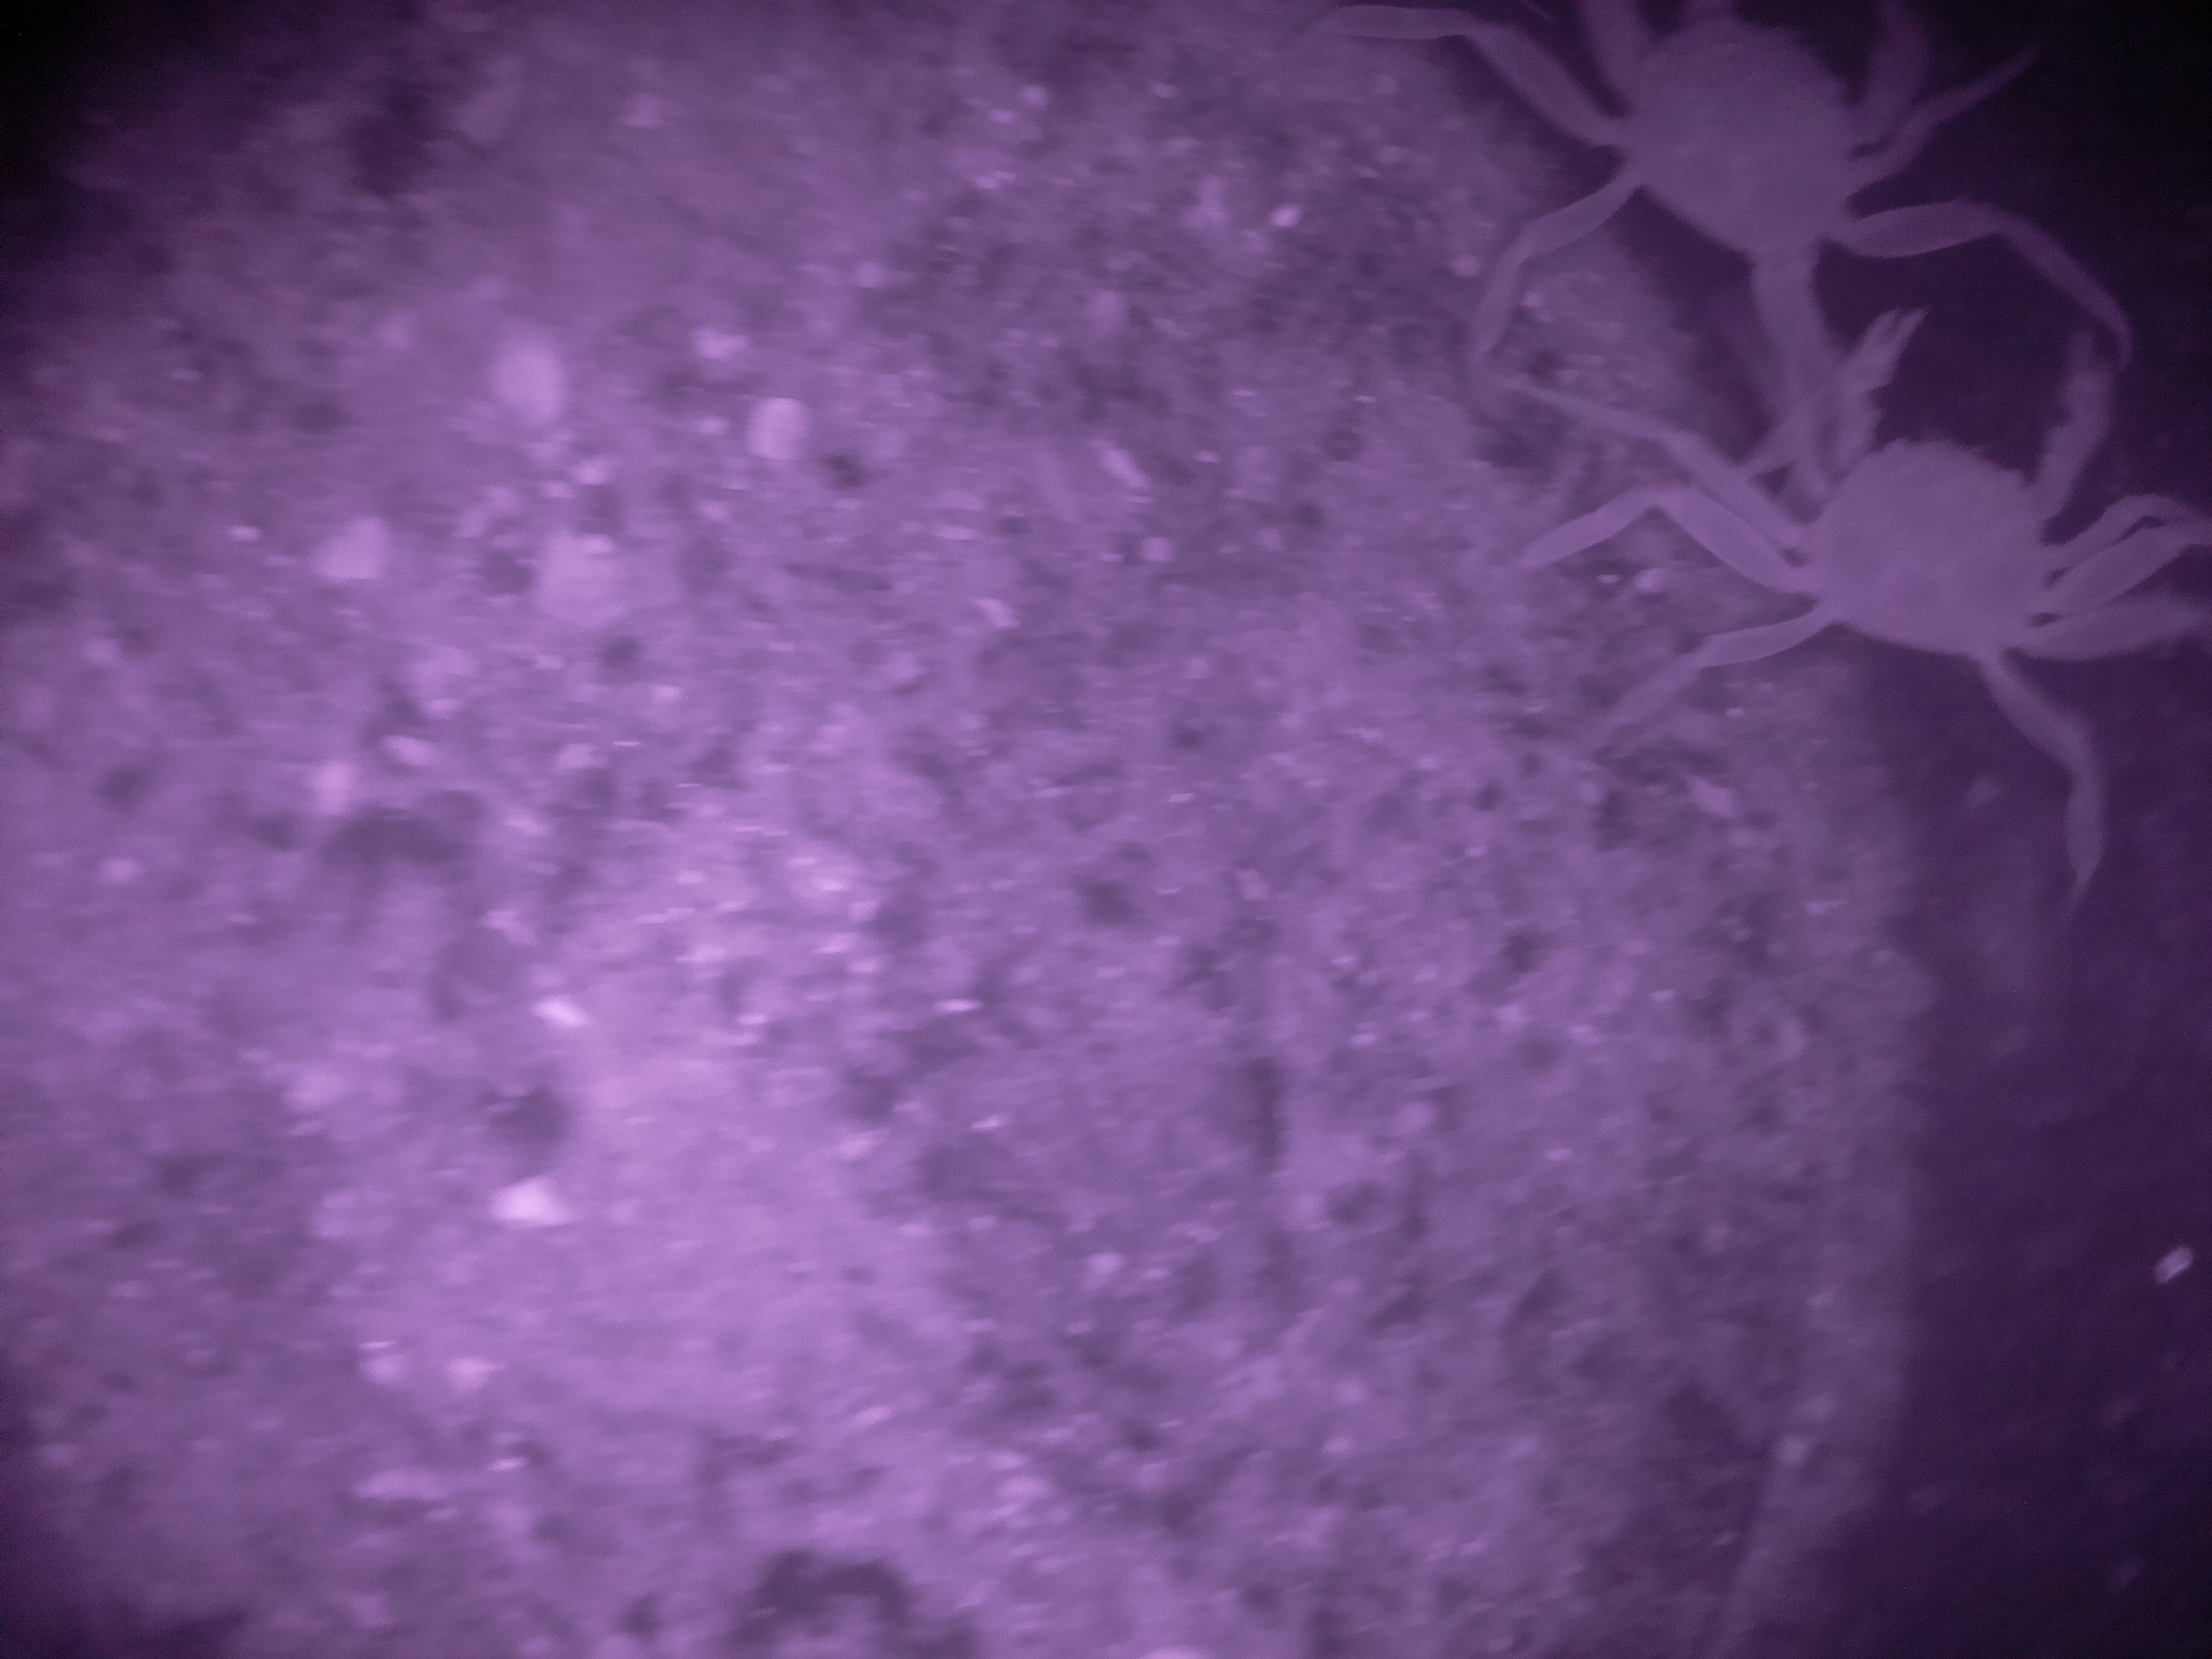Crab: (1651, 265, 2212, 727)
